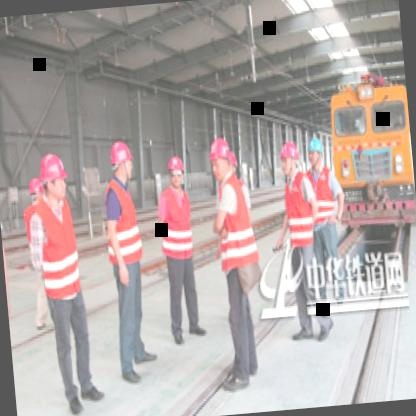helmet: (36, 152, 72, 209), (207, 138, 238, 186), (106, 140, 137, 186), (276, 132, 302, 182), (162, 152, 186, 192), (304, 131, 326, 169), (27, 170, 45, 210)
